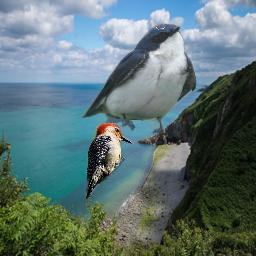Swallow: (81, 23, 198, 140)
Woodpecker: (86, 122, 135, 199)
